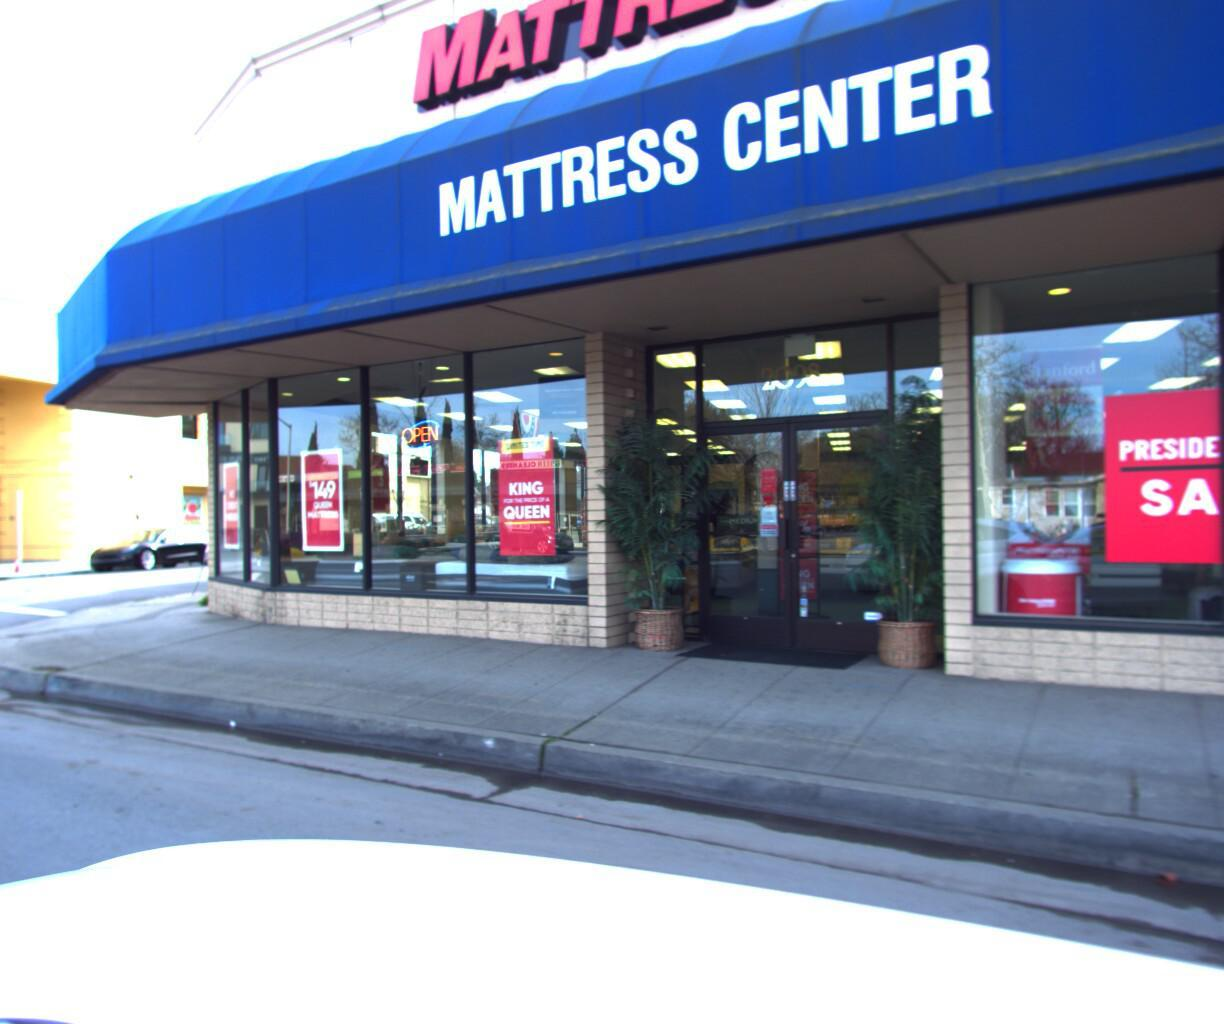car: (77, 520, 229, 573)
